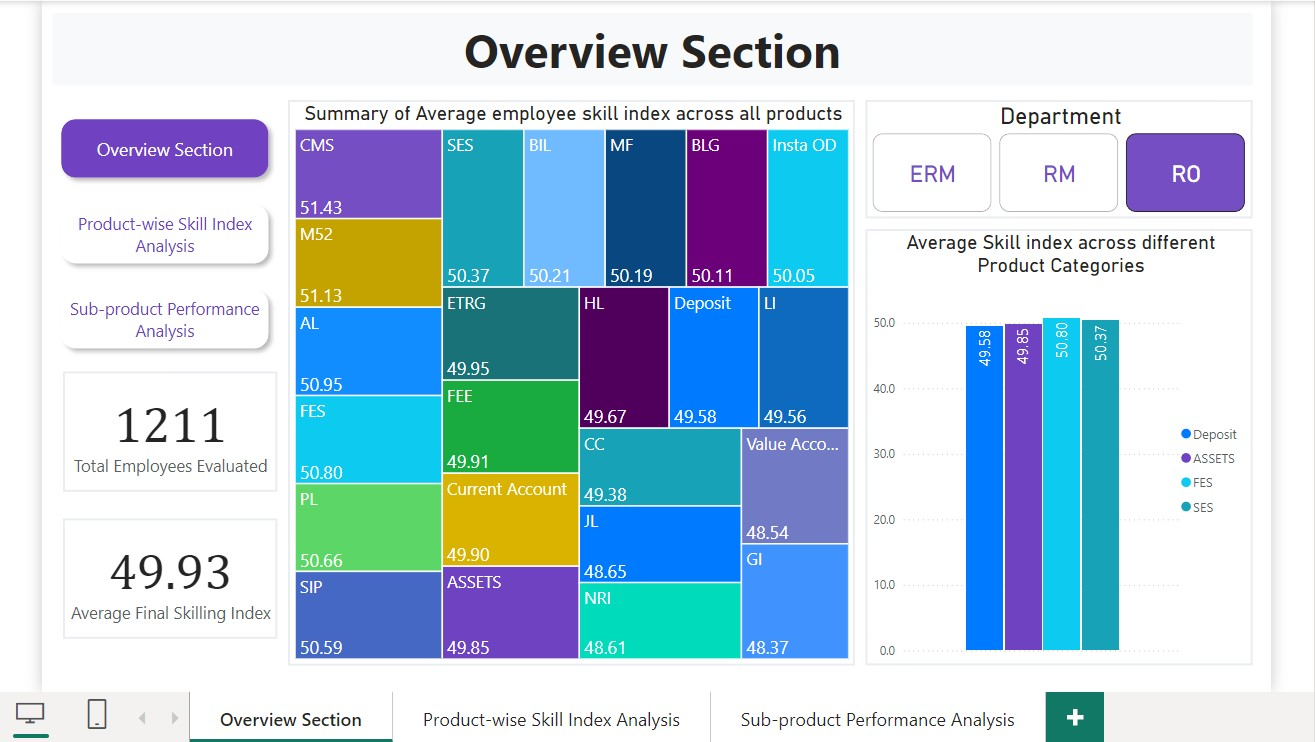

The page's visual inventory and layout, read from the dashboard file:
{"tool":"powerbi","page":{"name":"Overview Section","canvas":[1280,720],"ordinal":0},"visuals":[{"type":"pageNavigator","box":[10.9,114.1,234.4,259.5],"z":0},{"type":"textbox","box":[10.9,12.5,1250.4,75],"z":1000},{"type":"card","fields":{"Values":["CountNonNull(Dataset.Emp ID)"]},"box":[21.9,386.1,223.5,125],"z":2000},{"type":"clusteredColumnChart","title":"Average Skill index across different Product Categories","fields":{"Y":["Avg(Dataset.Deposit)","Avg(Dataset.ASSETS)","Avg(Dataset.FES)","Avg(Dataset.SES)"]},"box":[858.1,237.6,403.3,454.8],"z":3000},{"type":"card","fields":{"Values":["Avg(Dataset.Final Skilling Index)"]},"box":[21.9,539.2,223.5,125],"z":4000},{"type":"treemap","title":"Summary of Average employee skill index across all products","fields":{"Values":["Avg(Dataset.AL)","Avg(Dataset.ASSETS)","Avg(Dataset.BIL)","Avg(Dataset.BLG)","Avg(Dataset.CC)","Avg(Dataset.CMS)","Avg(Dataset.Current Account )","Avg(Dataset.Deposit)","Avg(Dataset.ETRG)","Avg(Dataset.FEE)","Avg(Dataset.FES)","Avg(Dataset.GI)"]},"box":[256.3,103.2,590.8,589.2],"z":5000},{"type":"advancedSlicerVisual","title":"Department","fields":{"Values":["Dataset.Role"]},"box":[858.1,103.2,403.3,123.5],"z":6000}]}

Visuals, with their boxes on the page's 1280x720 design canvas (x1, y1, x2, y2). These are canvas units, not pixel positions in the 1315x742 screenshot, which may show the page scaled, cropped or inside an application window:
pageNavigator: l=11, t=114, r=245, b=374
textbox: l=11, t=12, r=1261, b=88
card - CountNonNull(Dataset.Emp ID): l=22, t=386, r=245, b=511
"Average Skill index across different Product Categories" clusteredColumnChart: l=858, t=238, r=1261, b=692
card - Avg(Dataset.Final Skilling Index): l=22, t=539, r=245, b=664
"Summary of Average employee skill index across all products" treemap: l=256, t=103, r=847, b=692
"Department" advancedSlicerVisual: l=858, t=103, r=1261, b=227
